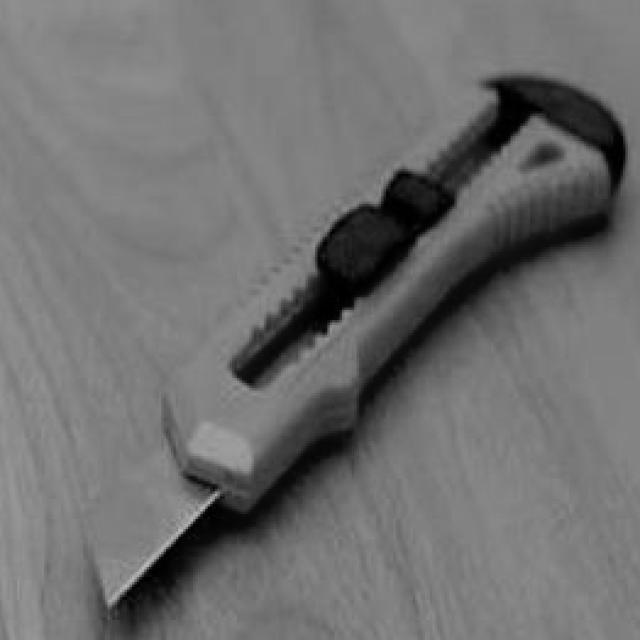estilete: (83, 75, 627, 604)
